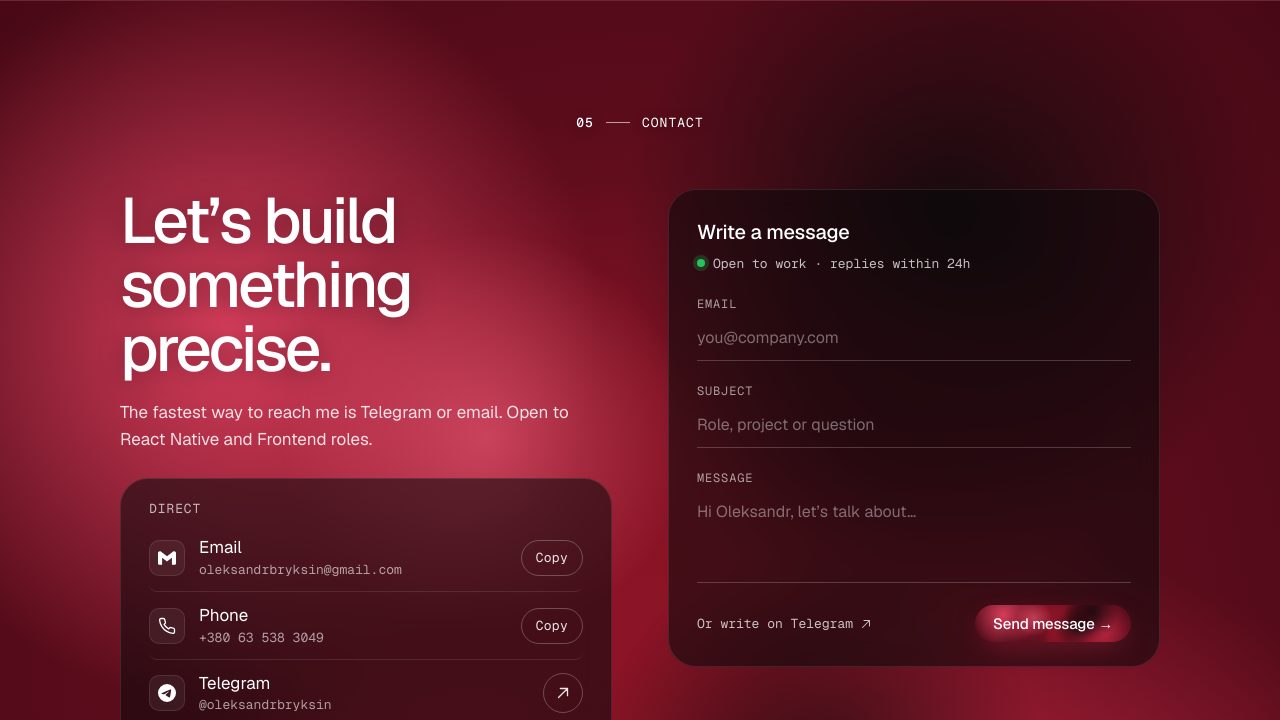
Contact › shows the translated message for an invalid email format
The width and height of the screenshot is (1280, 720).
Expected: the button "Send message →" is shown, [975, 605, 1131, 642]
Type "not-an-email" into the field with placeholder "you@company.com" at (914, 340), box [697, 318, 1131, 361]
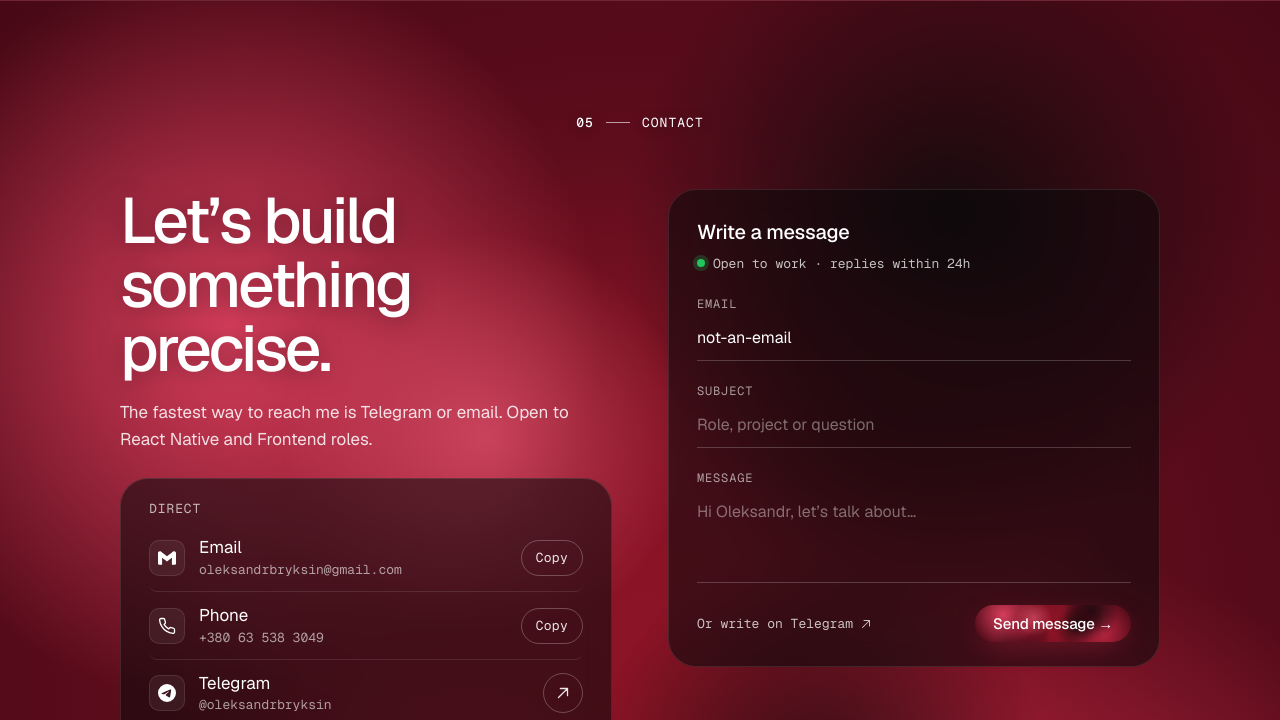
Click the button "Send message →" at (1053, 624), box [975, 605, 1131, 642]
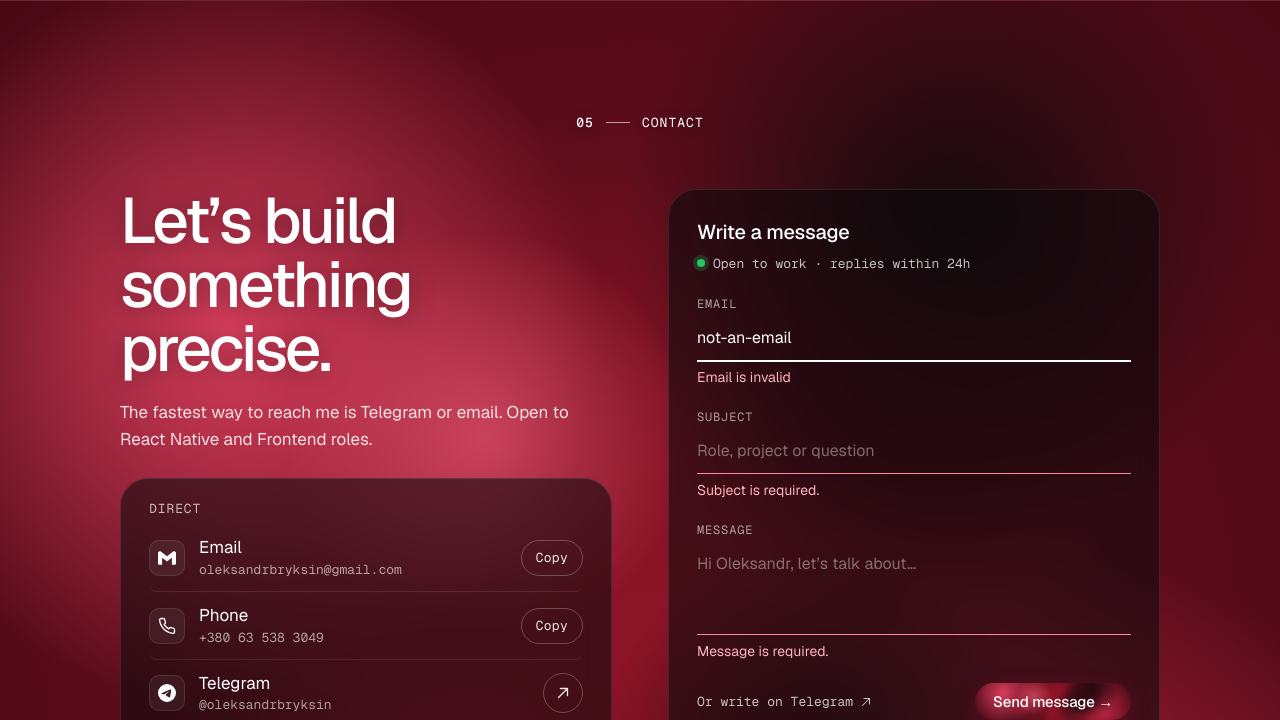
Expected: the text "Email is invalid" is shown, [697, 368, 791, 386]
